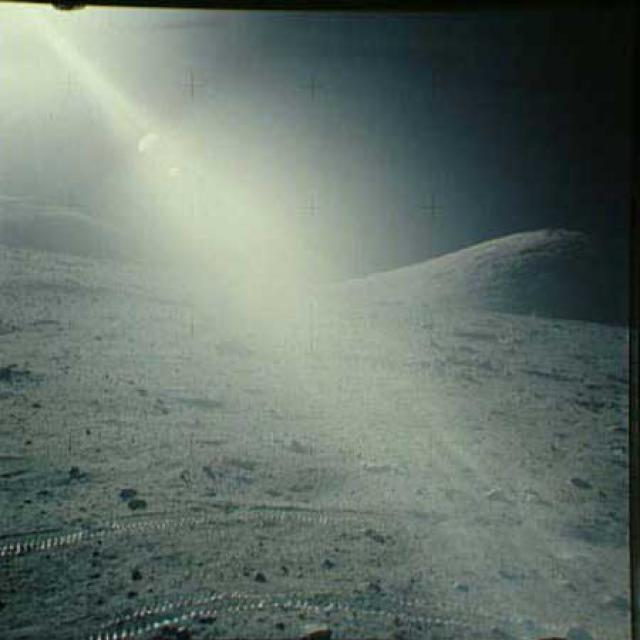crater: (160, 460, 397, 510), (95, 392, 229, 423), (523, 364, 587, 388)
